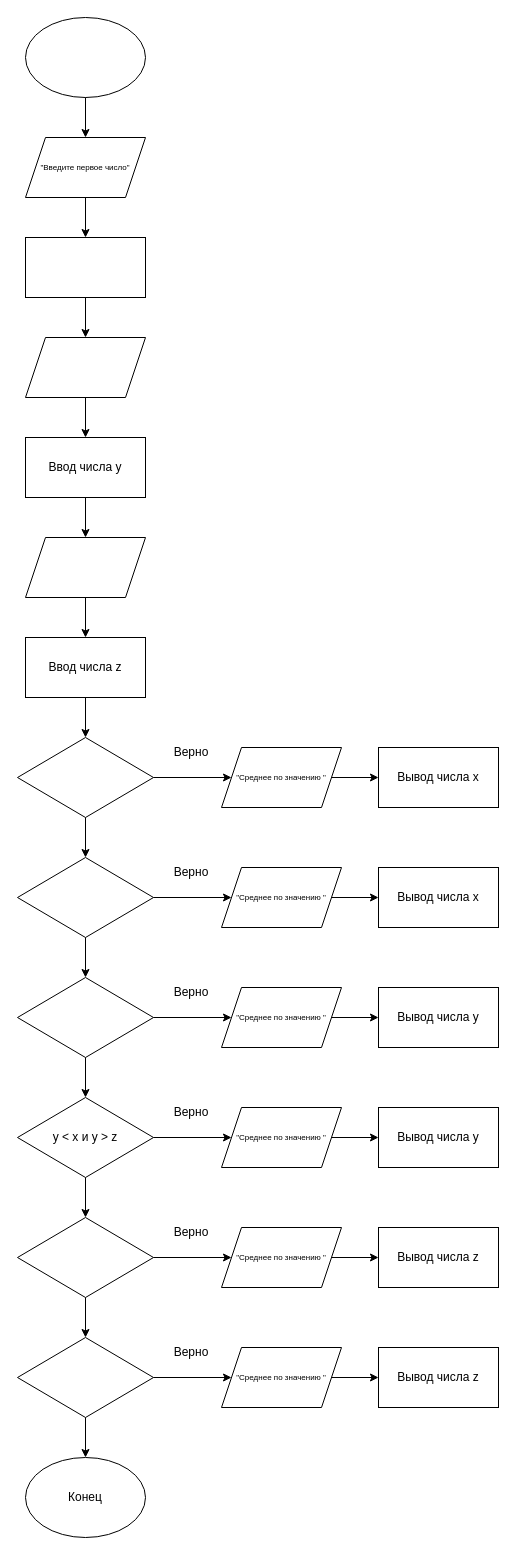
This 516x1555 diagram has some shape labels left out. The centre of each missing label's shape, as x and y in pixels:
"Введите второе число": pixel 85 367
"Введите третье число": pixel 85 567
x < y и x > z: pixel 85 897
x > y и x < z: pixel 85 777
y > x и y < z: pixel 85 1017
z < y и z > x: pixel 85 1377
z > y и z < x: pixel 85 1257
Ввод числа x: pixel 85 267
Начало: pixel 85 57
